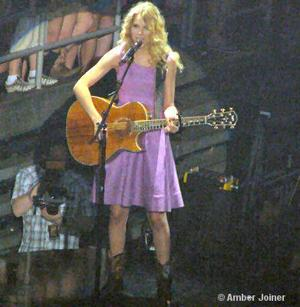person: (73, 2, 180, 306)
